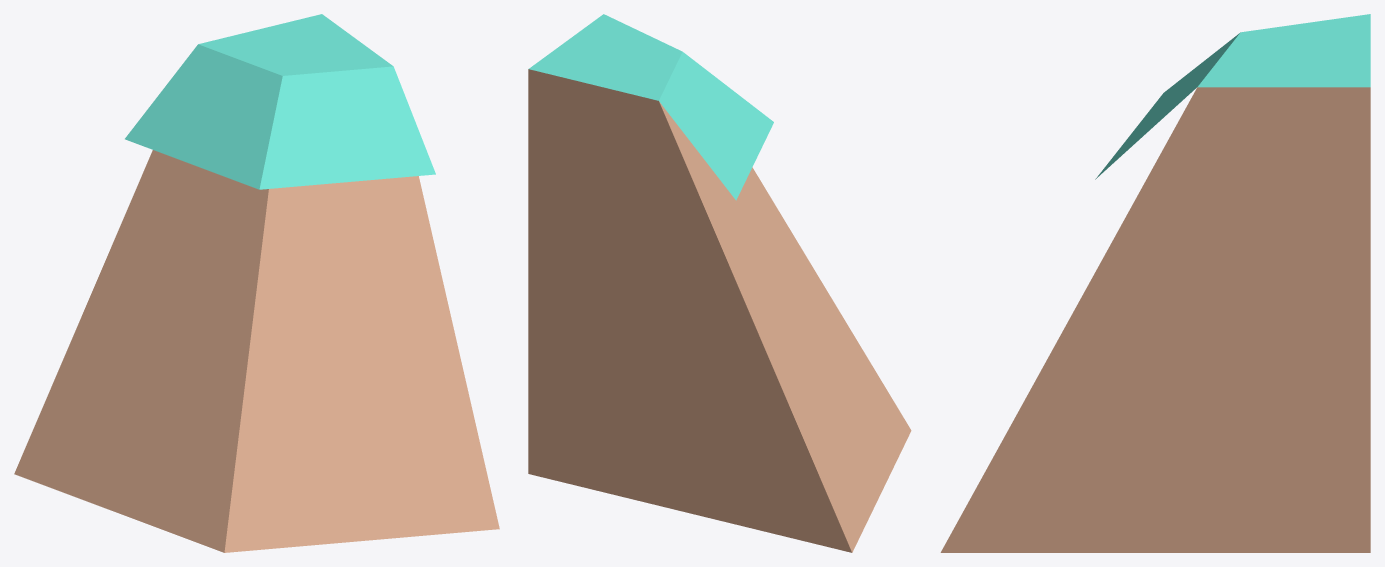
Rendered from cliff_halfCorner_rock.gltf.
3 renders of one model, left to right at view 1: azimuth 30°, elevation 25°; view 2: azimuth 150°, elevation 25°; view 3: azimuth 270°, elevation 25°, orthographic. The views are drawn at different scales.
Visible parts, largest first — view 1: cliff_halfCorner_rock; view 2: cliff_halfCorner_rock; view 3: cliff_halfCorner_rock.
Part boxes in pixels (x1,y1,x2,y2): cliff_halfCorner_rock: (14, 14, 499, 552); cliff_halfCorner_rock: (528, 14, 911, 552); cliff_halfCorner_rock: (940, 14, 1370, 552).
Size of the model in its own units: 0.4185 by 0.5 by 0.4185.
